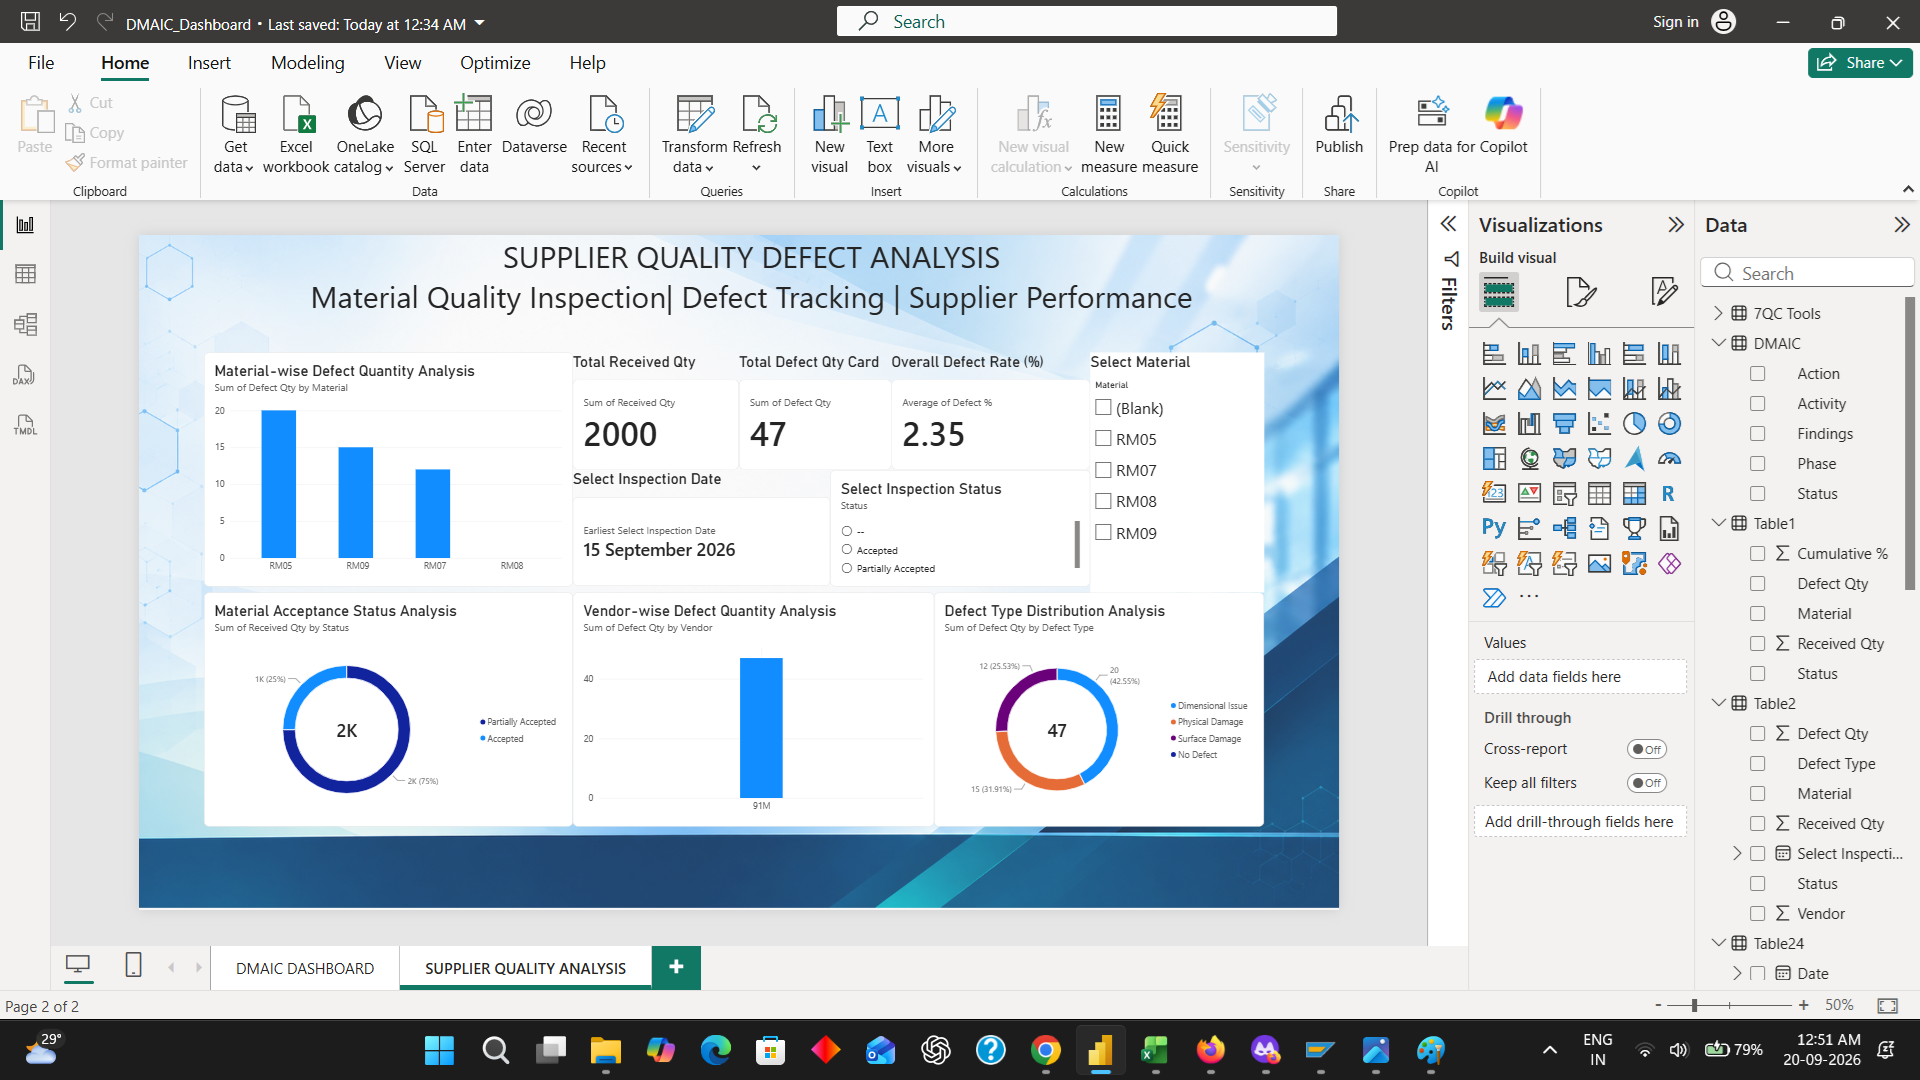

Layout of this report page (visuals, bound fields, positions):
{"tool":"powerbi","page":{"name":"SUPPLIER QUALITY ANALYSIS","canvas":[1920,1080],"ordinal":1},"visuals":[{"type":"textbox","box":[262,0,1436,148],"z":0},{"type":"clusteredColumnChart","title":"Material-wise Defect Quantity Analysis","fields":{"Category":["Table1.Material"],"Y":["Sum(Table1.Defect Qty)"]},"box":[104,188,590,374],"z":1000},{"type":"cardVisual","title":"Total Received Qty","fields":{"Data":["Sum(Table2.Received Qty)"]},"box":[694,188,266,188],"z":2000},{"type":"cardVisual","title":"Total Defect Qty Card","fields":{"Data":["Sum(Table1.Defect Qty)"]},"box":[960,188,244,188],"z":3000},{"type":"cardVisual","title":"Overall Defect Rate (%)","fields":{"Data":["Avg(Table24.Defect %)"]},"box":[1204,188,318,188],"z":4000},{"type":"donutChart","title":"Material Acceptance Status Analysis","fields":{"Category":["Table1.Status"],"Y":["Sum(Table1.Received Qty)"]},"box":[104,572,590,374],"z":4001},{"type":"clusteredColumnChart","title":"Vendor-wise Defect Quantity Analysis","fields":{"Category":["Table24.Vendor"],"Y":["Sum(Table24.Defect Qty)"]},"box":[694,572,578,374],"z":4002},{"type":"donutChart","title":"Defect Type Distribution Analysis","fields":{"Category":["Table24.Defect Type"],"Y":["Sum(Table24.Defect Qty)"]},"box":[1272,572,528,374],"z":4003},{"type":"slicer","title":"Select Material","fields":{"Values":["Table1.Material"]},"box":[1522,188,278,384],"z":4004},{"type":"cardVisual","title":"Select Inspection Date","fields":{"Data":["Min(Table2.Select Inspection Date)"]},"box":[694,376,412,186],"z":4005},{"type":"listSlicer","title":"Select Inspection Status","fields":{"Values":["Table2.Status"]},"box":[1106,376,416,186],"z":4006}]}

Visuals, with their boxes on the page's 1920x1080 design canvas (x1, y1, x2, y2). These are canvas units, not pixel positions in the 1920x1080 screenshot, which may show the page scaled, cropped or inside an application window:
textbox: [262, 0, 1698, 148]
"Material-wise Defect Quantity Analysis" clusteredColumnChart: [104, 188, 694, 562]
"Total Received Qty" cardVisual: [694, 188, 960, 376]
"Total Defect Qty Card" cardVisual: [960, 188, 1204, 376]
"Overall Defect Rate (%)" cardVisual: [1204, 188, 1522, 376]
"Material Acceptance Status Analysis" donutChart: [104, 572, 694, 946]
"Vendor-wise Defect Quantity Analysis" clusteredColumnChart: [694, 572, 1272, 946]
"Defect Type Distribution Analysis" donutChart: [1272, 572, 1800, 946]
"Select Material" slicer: [1522, 188, 1800, 572]
"Select Inspection Date" cardVisual: [694, 376, 1106, 562]
"Select Inspection Status" listSlicer: [1106, 376, 1522, 562]
